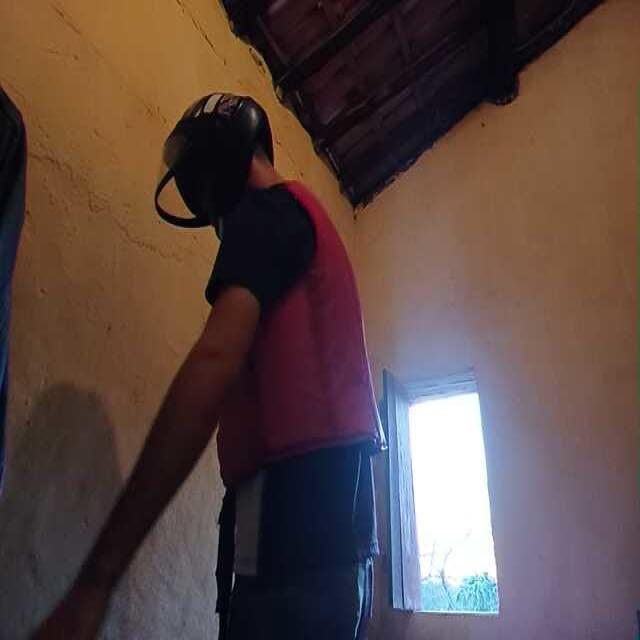capacete: (157, 92, 272, 226)
colete: (201, 180, 387, 457)
pessoa: (100, 109, 390, 640)
